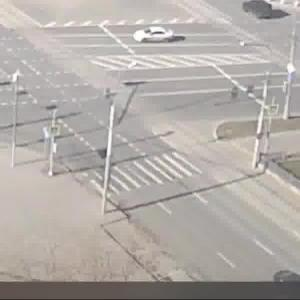car: (133, 27, 177, 49), (245, 2, 279, 23)
